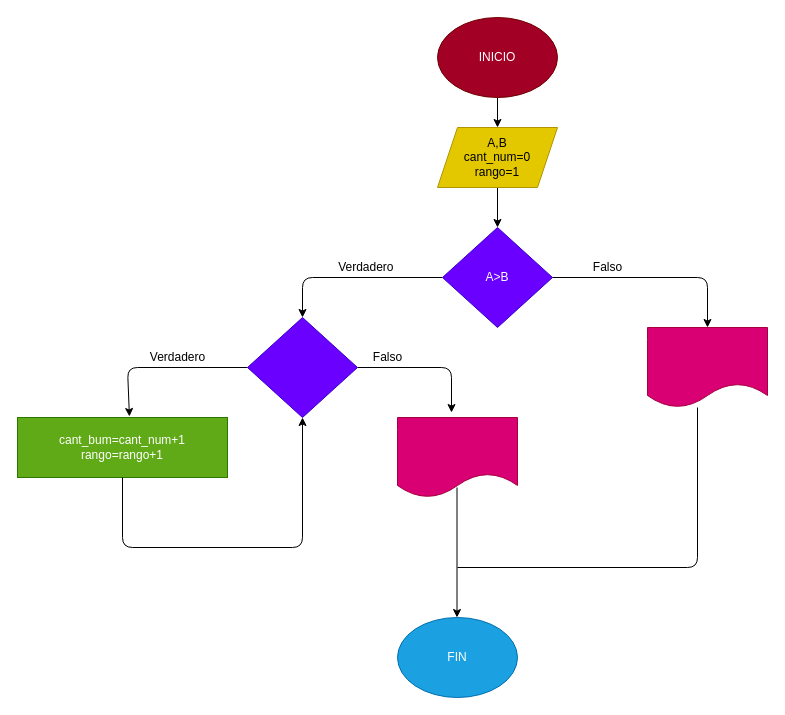
Some shapes in this 785 by 715 pixel diagram are drawn without their labels. The centre of each missing label's shape, as x and y in pixels:
"A no puede ser mayor que B" goes at pixel 707 367.
"rango" goes at pixel 457 457.
"rango<=B" goes at pixel 302 367.
